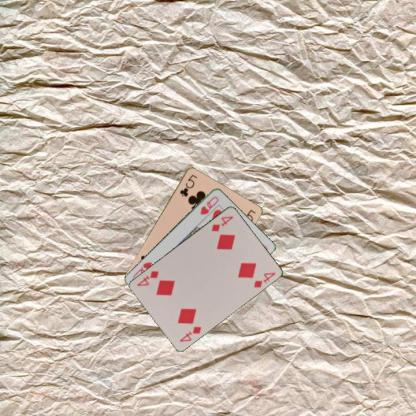4d: (209, 213, 235, 232), (177, 324, 203, 342)
5c: (177, 172, 198, 198)
Qh: (198, 193, 220, 216)
